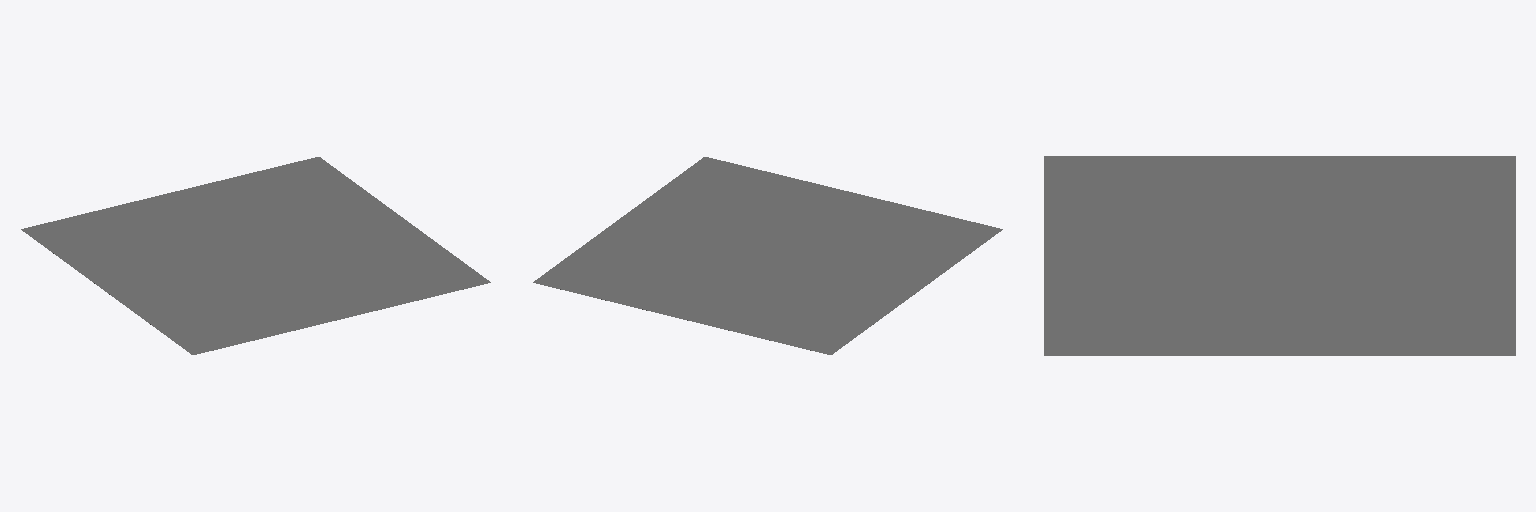
robot.urdf — plane:
<?xml version="1.0"?>
<robot name="plane">
  <link name="plane_link">
    <visual>
      <geometry>
        <box size="10 10 0.001"/>
      </geometry>
      <origin rpy="0 0 0" xyz="0 0 0"/>
      <material name="gray">
        <color rgba="0.5 0.5 0.5 1"/>
      </material>
    </visual>
    <collision>
      <geometry>
        <box size="10 10 0.001"/>
      </geometry>
      <origin rpy="0 0 0" xyz="0 0 0"/>
    </collision>
    <inertial>
      <origin rpy="0 0 0" xyz="0 0 0"/>
      <mass value="0"/>
      <inertia ixx="0" ixy="0" ixz="0" iyy="0" iyz="0" izz="0"/>
    </inertial>
  </link>
</robot>

--- What the picture shows (computed from the rendered views, not written in the file) ---
The picture shows the robot from 3 angles, left to right: view 1: azimuth 30°, elevation 25°; view 2: azimuth 150°, elevation 25°; view 3: azimuth 270°, elevation 25°; orthographic projection.
Model plane with 1 links and 0 joints (none), rooted at plane_link, posed all joints at 0.
Visible links, largest first — view 1: plane_link; view 2: plane_link; view 3: plane_link.
Boxes of the visible links, x1,y1,x2,y2 form: plane_link: [21, 157, 490, 354]; plane_link: [533, 157, 1002, 354]; plane_link: [1044, 156, 1515, 355].
Size in the robot's own frame: 10 by 10 by 0.001 metres.
Geometry: primitives only (box / cylinder / sphere), no mesh files.
